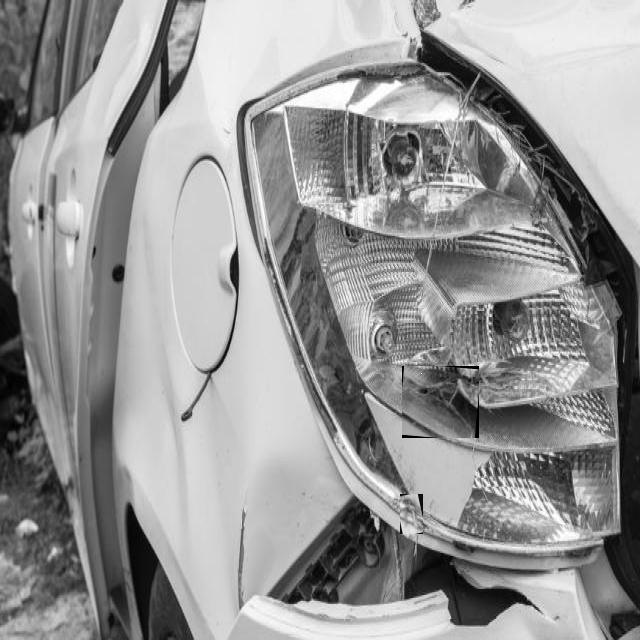Dent: (402, 366, 479, 438), (400, 494, 423, 534)
